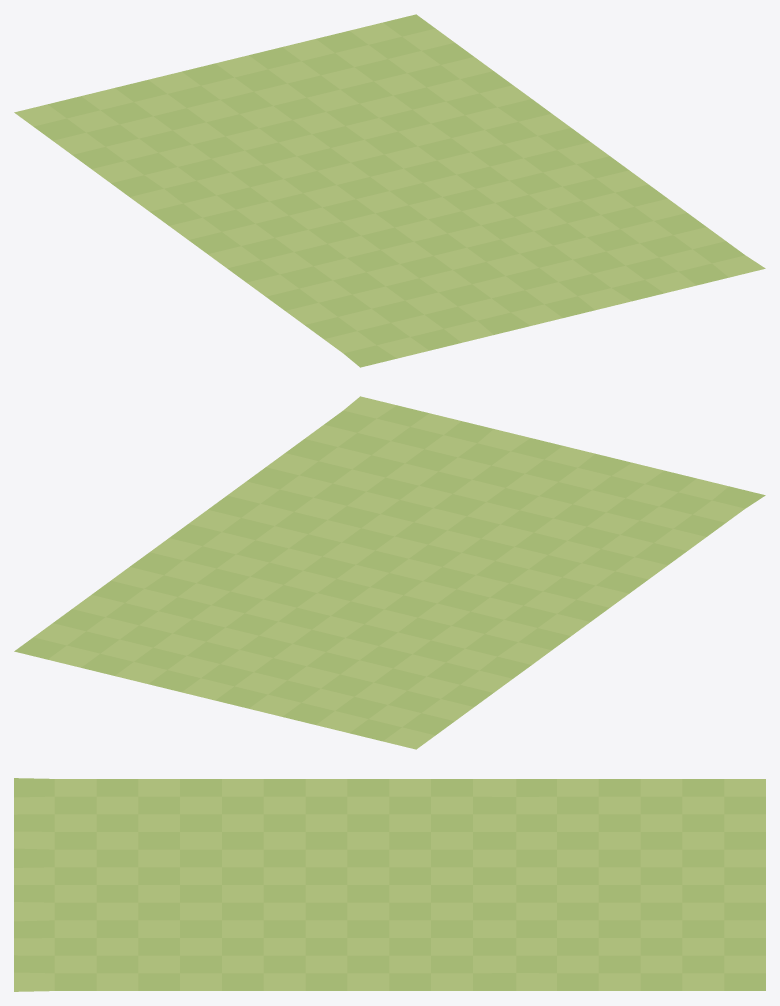
Rendered from Graund_Green.fbx.
The picture shows the model from 3 angles, top to bottom: view 1: azimuth 30°, elevation 25°; view 2: azimuth 150°, elevation 25°; view 3: azimuth 270°, elevation 25°; orthographic projection. The views are drawn at different scales.
Visible parts, largest first — view 1: Graund; view 2: Graund; view 3: Graund.
Boxes of the visible parts, <box> form: Graund: <box>14,14,765,367</box>; Graund: <box>14,396,765,749</box>; Graund: <box>14,778,765,991</box>.
Size of the model in its own units: 880 by 0.000264 by 1308.
Materials: 1 (1 with a texture image).
